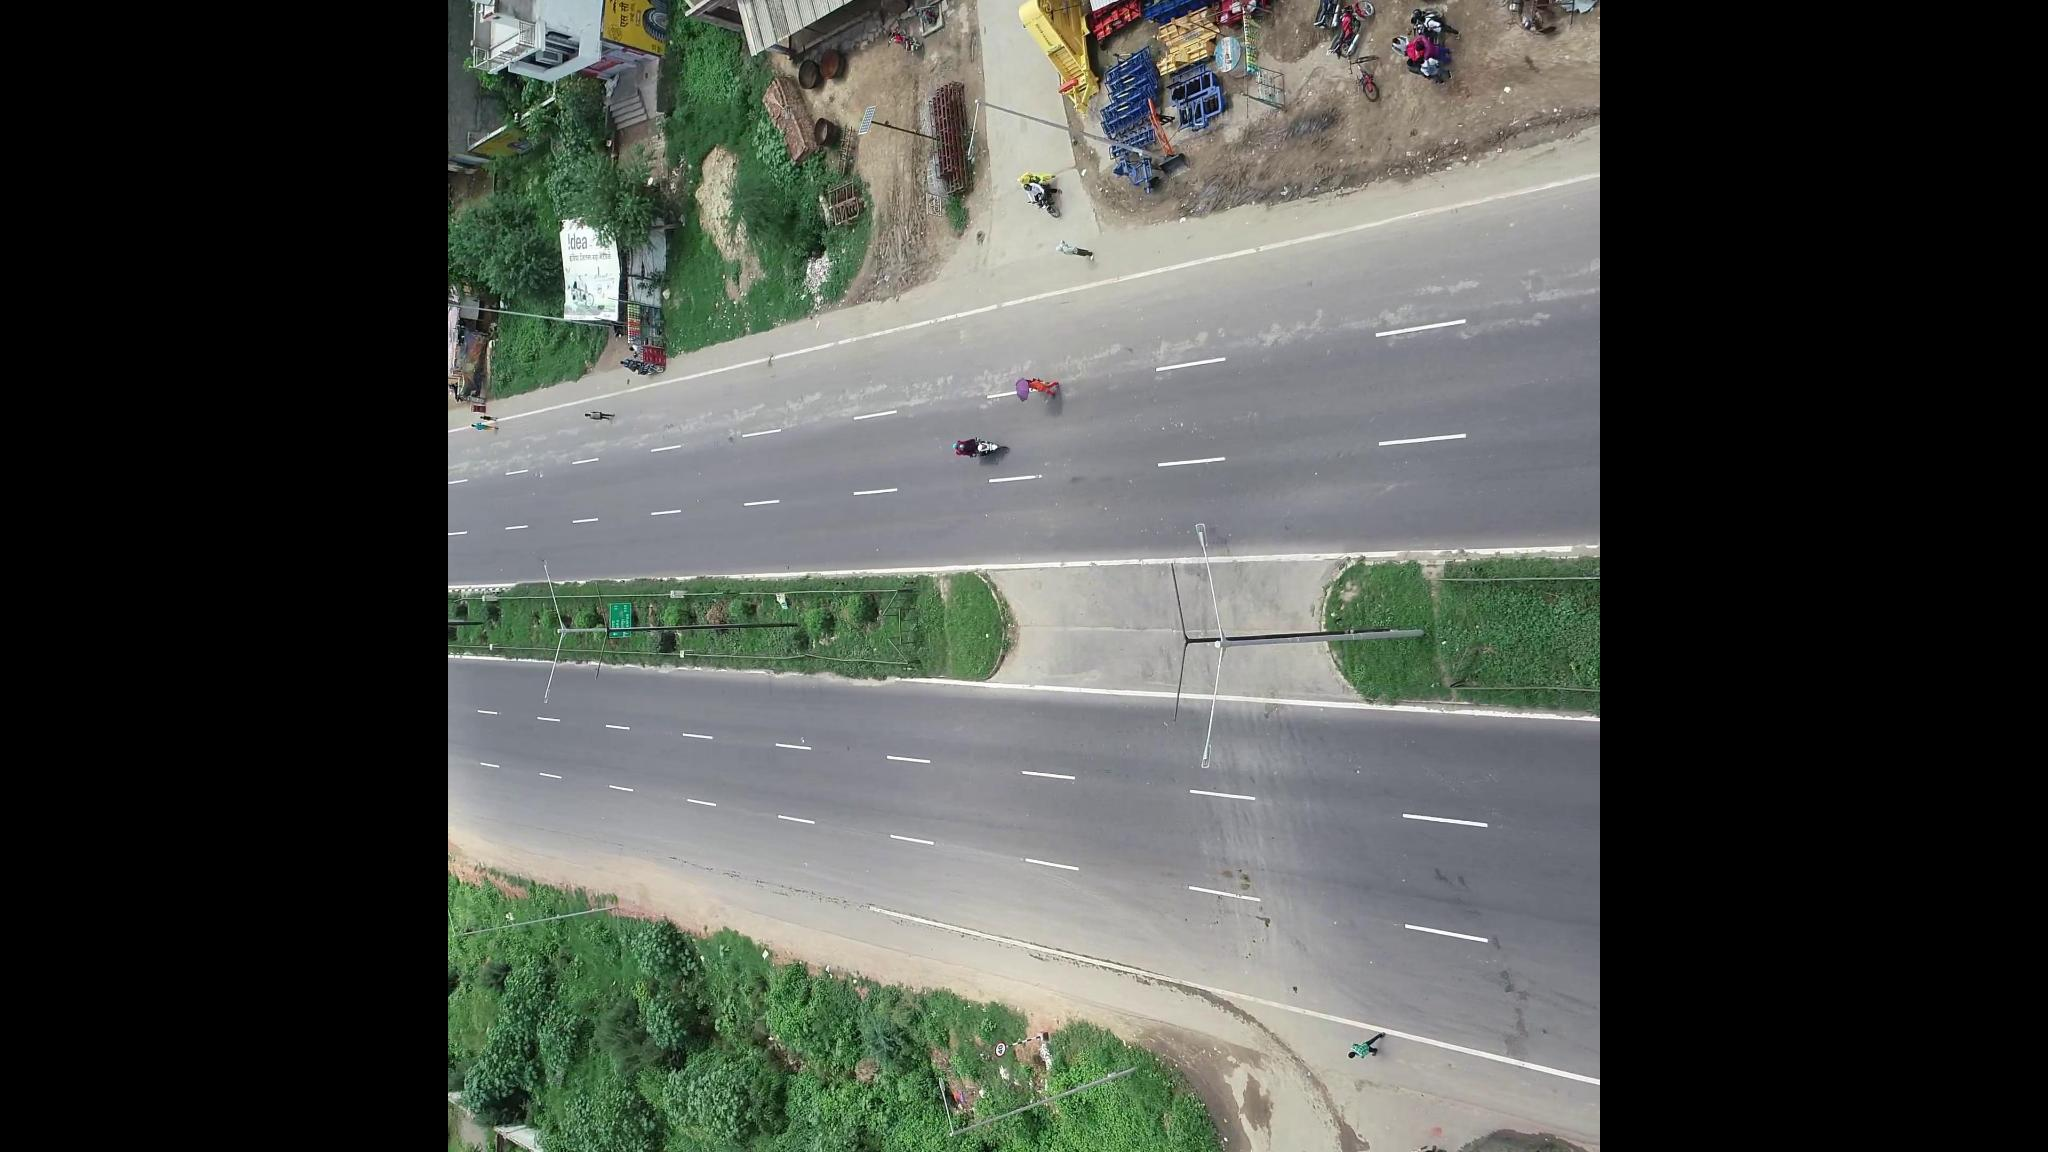Ravelling: (1132, 291, 1440, 366), (717, 369, 971, 442)
